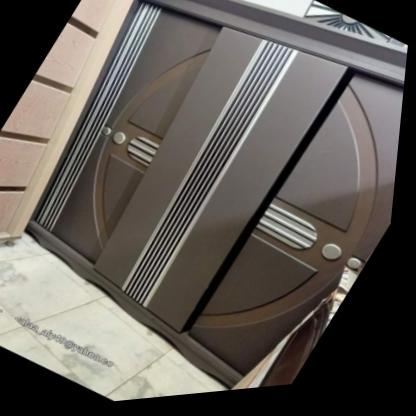Ceramic floor: (0, 234, 236, 404)
Closet: (28, 0, 409, 396)
